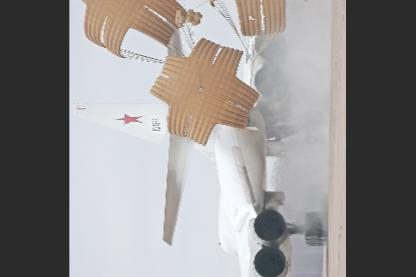Su34: (71, 0, 329, 276)
